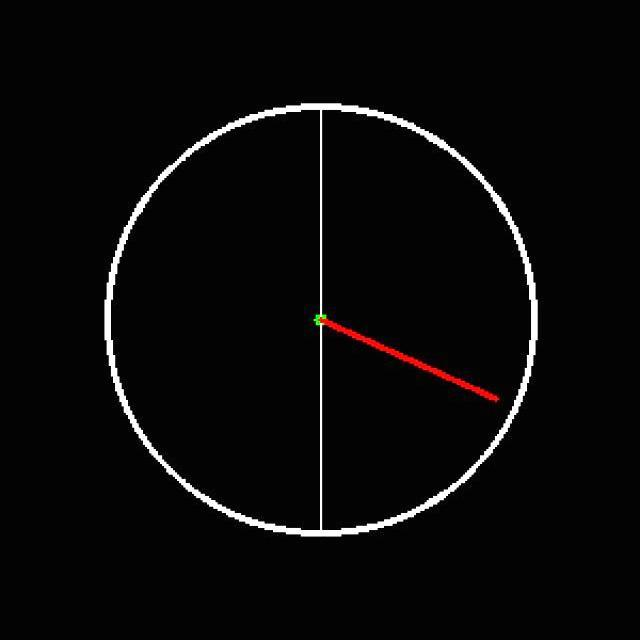Needle_Tip: (442, 358, 536, 431)
Needle_base: (287, 286, 356, 347)
